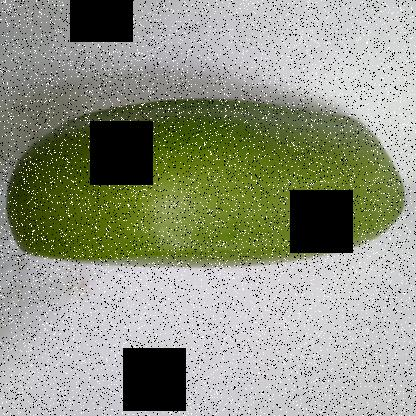freshunripe: (2, 83, 414, 288)
